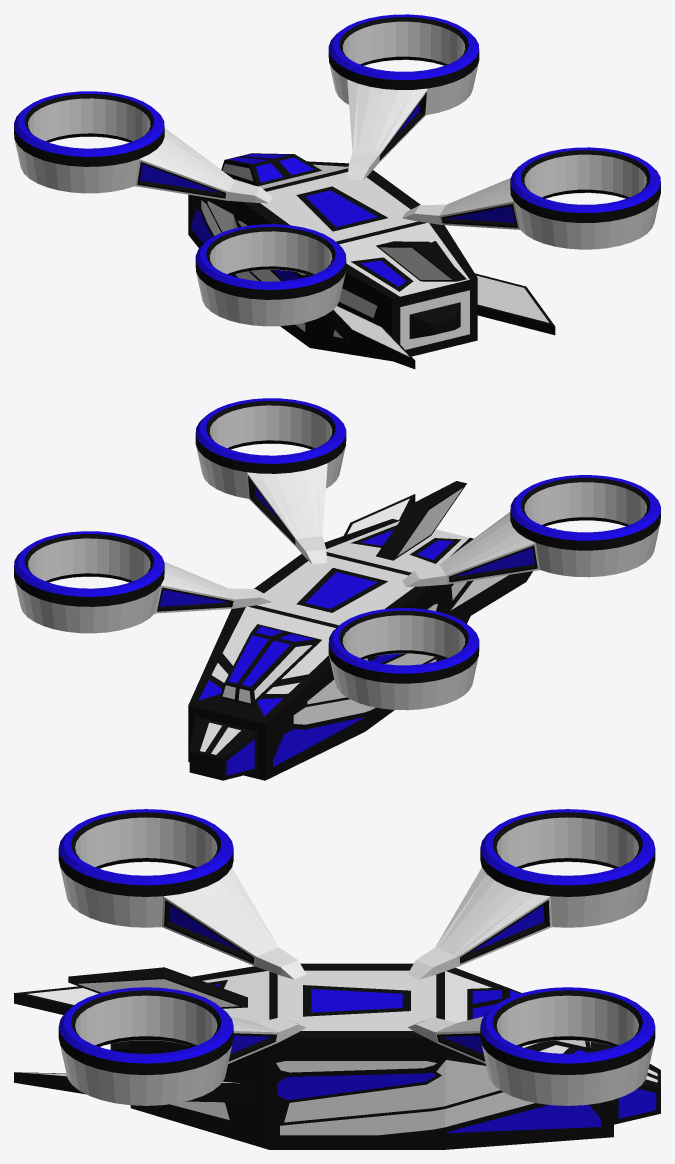
File: drone_body.glb
The picture shows the model from 3 angles, top to bottom: view 1: azimuth 30°, elevation 25°; view 2: azimuth 150°, elevation 25°; view 3: azimuth 270°, elevation 25°; orthographic projection. The views are drawn at different scales.
Parts seen in each view (by area): view 1: drone_body; view 2: drone_body; view 3: drone_body.
Part boxes in pixels (<box>): drone_body: <box>14,14,660,369</box>; drone_body: <box>14,398,660,780</box>; drone_body: <box>14,809,660,1149</box>.
Size of the model in its own units: 0.7638 by 0.2576 by 0.8282.
